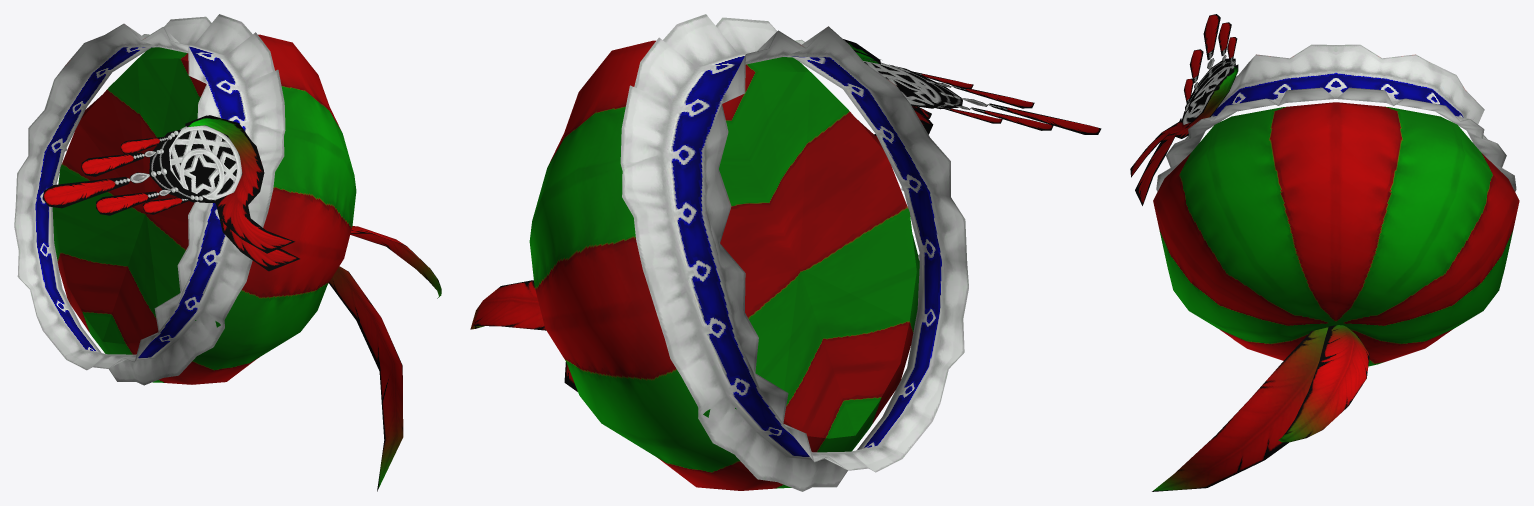
3 renders of one model, left to right at view 1: azimuth 30°, elevation 25°; view 2: azimuth 150°, elevation 25°; view 3: azimuth 270°, elevation 25°, orthographic. The views are drawn at different scales.
Visible parts, largest first — view 1: B1158; view 2: B1158; view 3: B1158.
Part boxes in pixels (bbox=[...]): B1158: bbox=[14, 14, 441, 491]; B1158: bbox=[470, 14, 1101, 491]; B1158: bbox=[1130, 14, 1519, 491].
Size of the model in its own units: 0.7643 by 0.688 by 0.6104.
